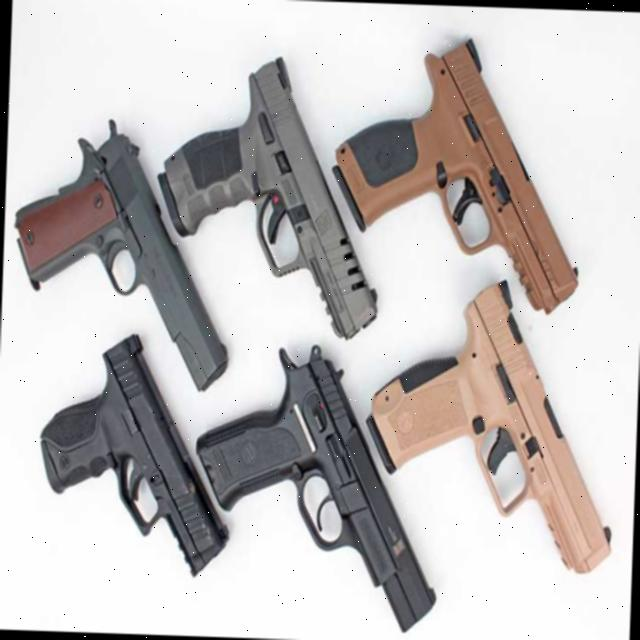Handgun: (363, 277, 618, 574), (188, 338, 442, 636), (332, 35, 578, 311), (154, 54, 384, 344), (8, 118, 235, 394), (36, 332, 232, 576)
